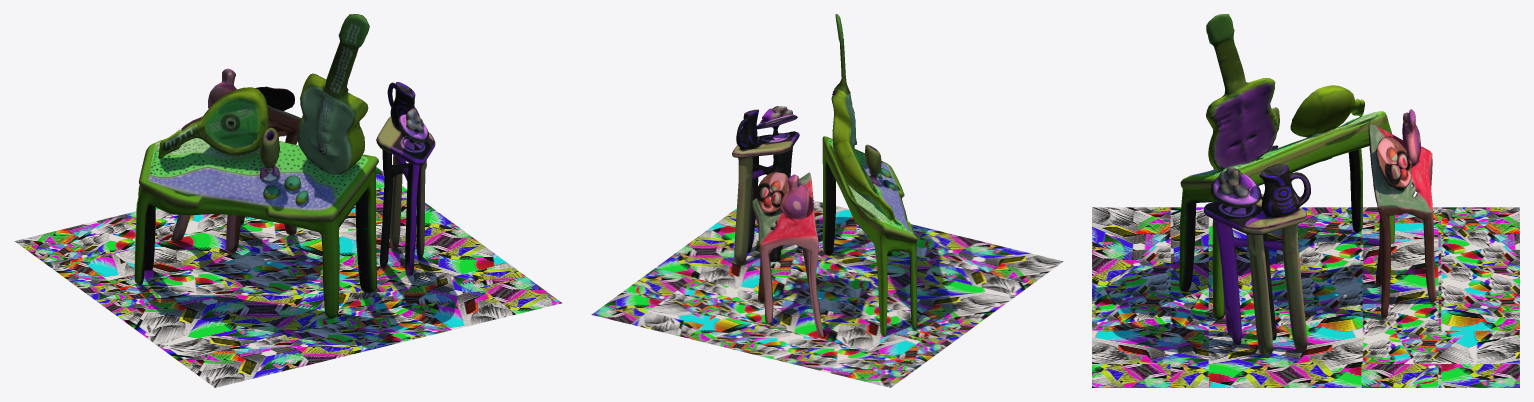
File: RandomGlitchPicassos_scale_app.glb
The picture shows the model from 3 angles, left to right: view 1: azimuth 30°, elevation 25°; view 2: azimuth 150°, elevation 25°; view 3: azimuth 270°, elevation 25°; orthographic projection. The views are drawn at different scales.
Parts seen in each view (by area): view 1: RandomGlitchPicassos; view 2: RandomGlitchPicassos; view 3: RandomGlitchPicassos.
Part boxes in pixels (box(x1,y1,x2,y2)): RandomGlitchPicassos: box(14, 14, 562, 387); RandomGlitchPicassos: box(591, 14, 1063, 387); RandomGlitchPicassos: box(1092, 14, 1519, 387).
Size of the model in its own units: 0.0153 by 0.012 by 0.0153.
Materials: 4 (4 with a texture image).
